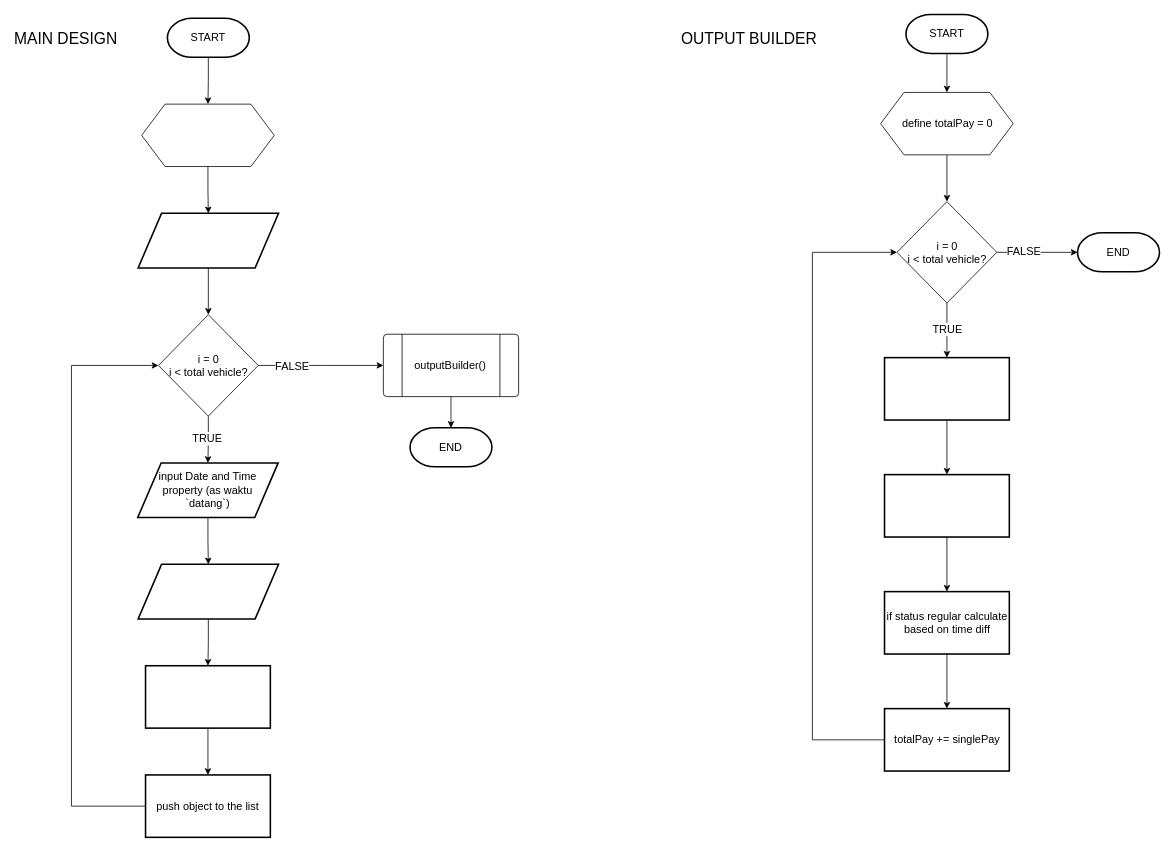
Some shapes in this 1174 by 851 pixel diagram are drawn without their labels. The shapes that lost their labels are listed below. From the top down, each one's box as (x1, y1, x2, y2) in pixels, then its label:
(141, 103, 274, 167): define List (Java: ArrayList) (C++: std::vector) (Python: List)
(137, 212, 279, 268): input total vehicle
(883, 356, 1010, 420): check vehicle type check status
(883, 473, 1010, 537): calculate total pay based on vehicle type and status
(137, 563, 279, 619): input Date and Time property (as waktu `pulang`)
(144, 665, 271, 729): init ParkedVehicle object
